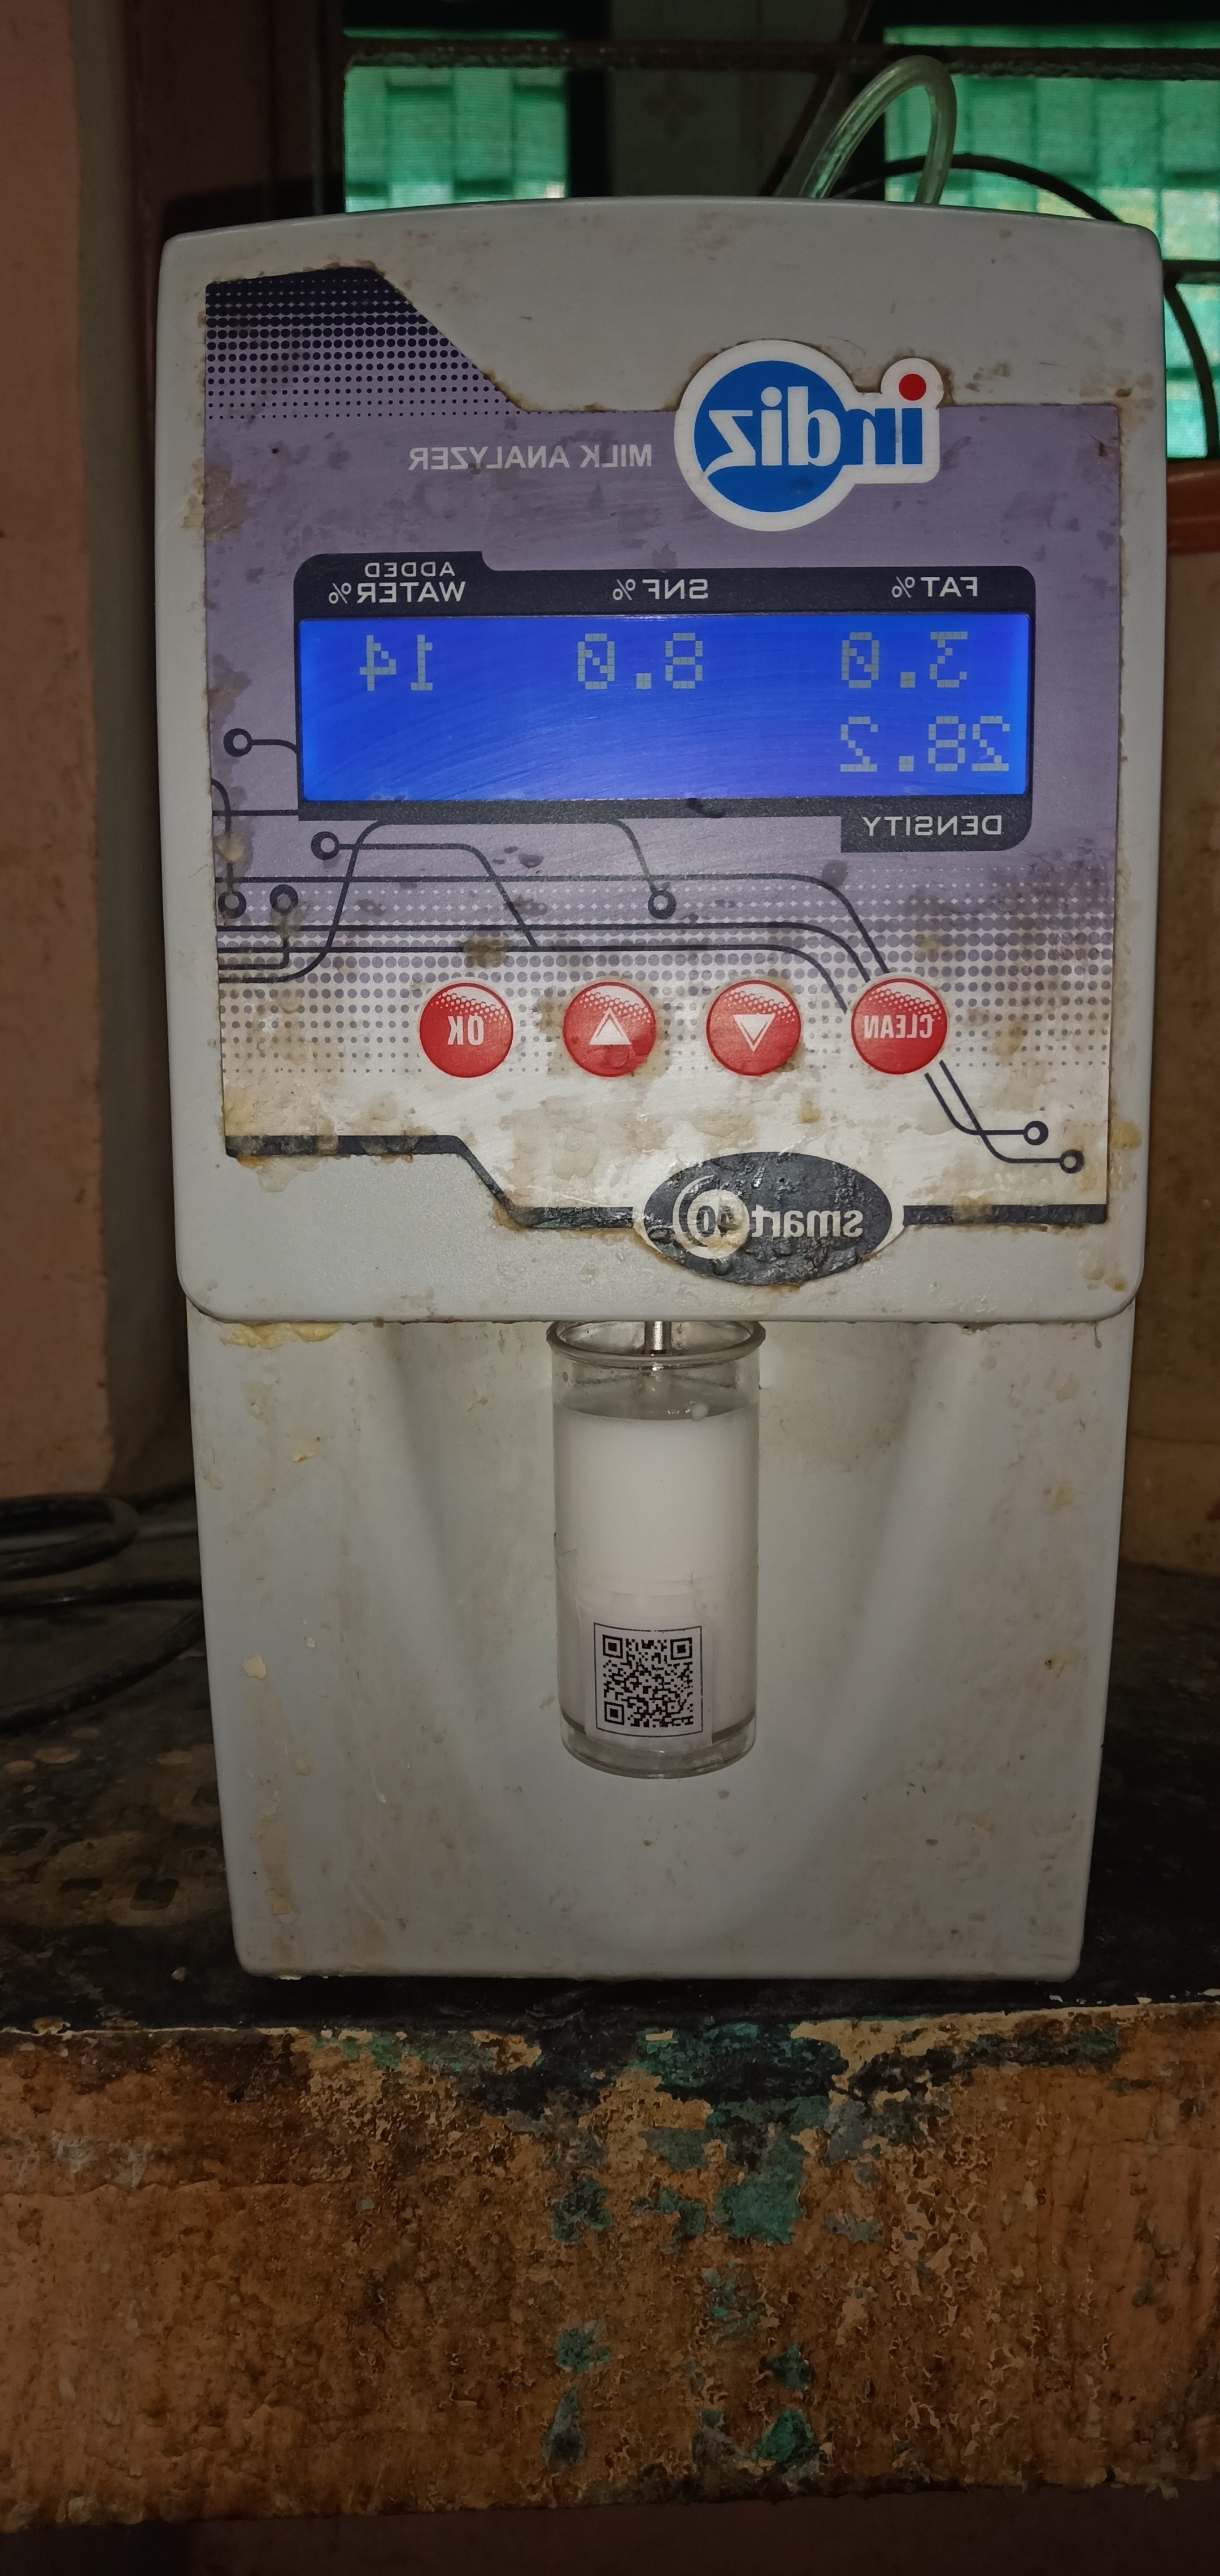lcd: (294, 557, 1056, 892)
qr: (580, 1598, 721, 1764)
